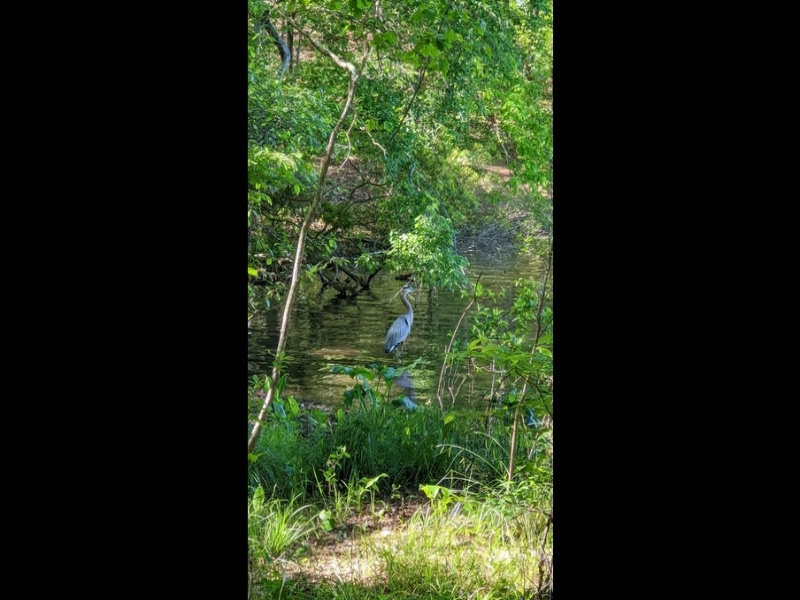heron: (382, 284, 418, 362)
